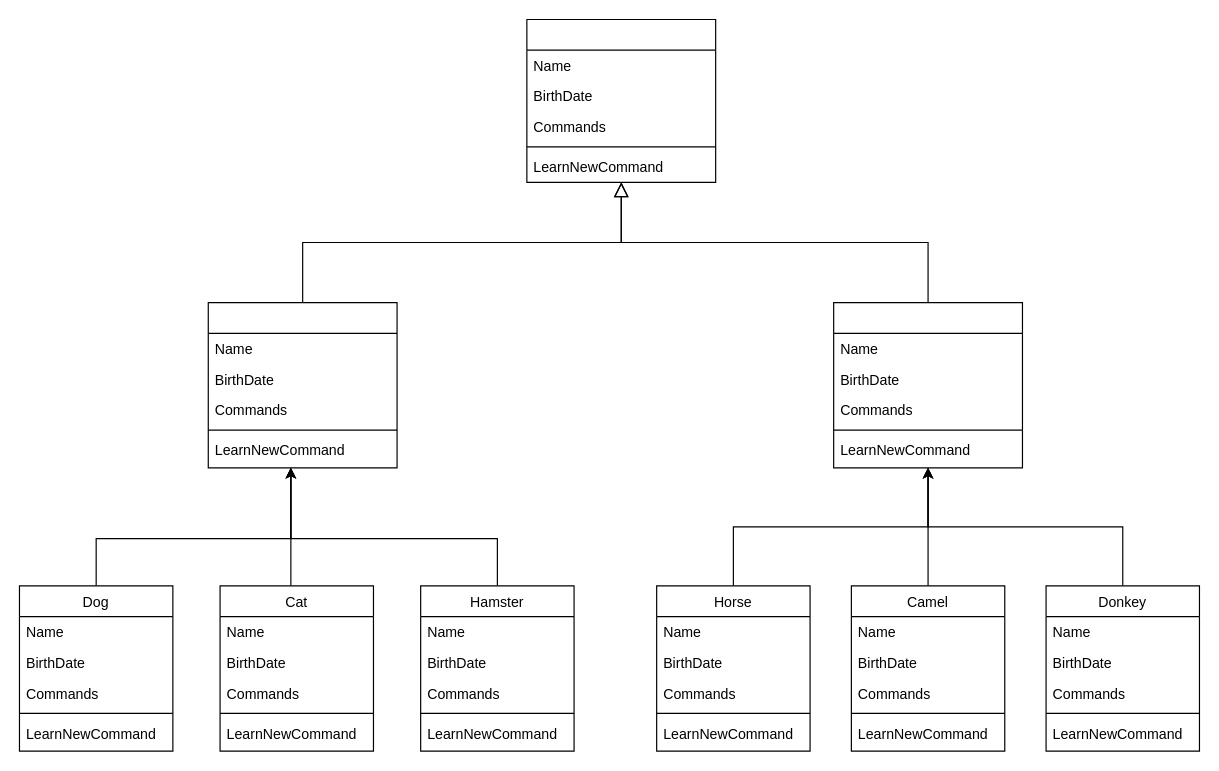
The diagram is 1219 pixels wide and 771 high, and some of its shapes have lost their labels. The shapes that lost their labels are listed below. From the top down, each one's box as (x1, y1, x2, y2) in pixels, then its label:
(526, 18, 716, 182): Animal
(207, 301, 397, 468): Pet
(832, 301, 1022, 468): PackAnimal
